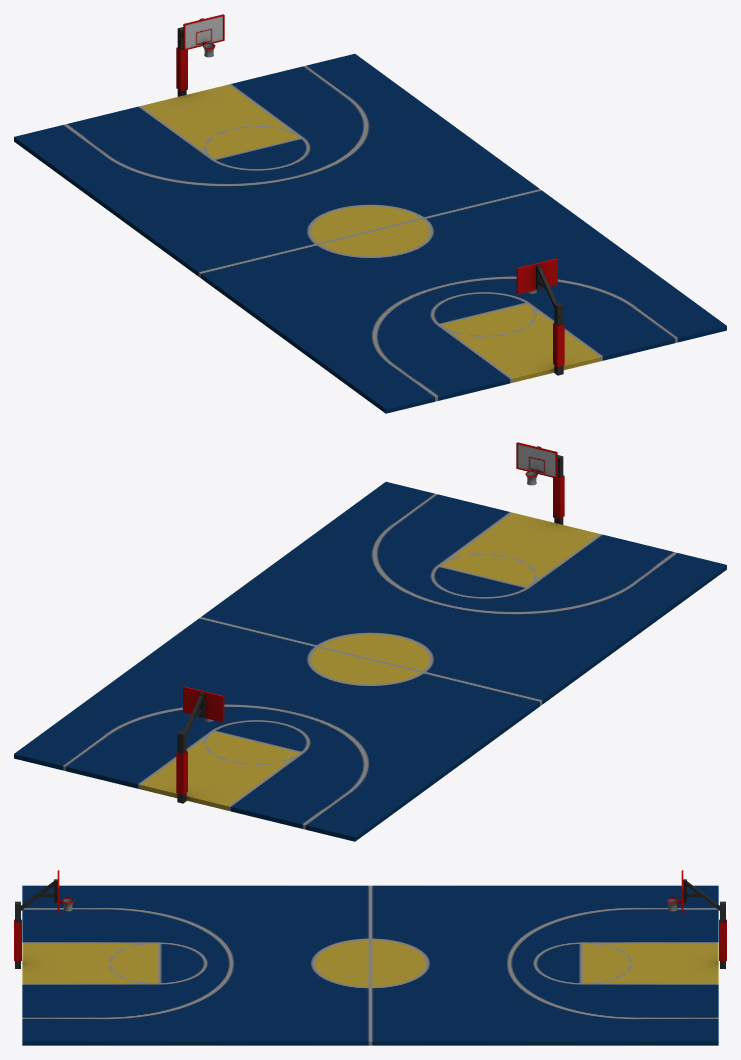
Rendered from BasketBallCourt.obj.
The picture shows the model from 3 angles, top to bottom: view 1: azimuth 30°, elevation 25°; view 2: azimuth 150°, elevation 25°; view 3: azimuth 270°, elevation 25°; orthographic projection. The views are drawn at different scales.
Visible parts, largest first — view 1: BasketBallCourt_Mesh; view 2: BasketBallCourt_Mesh; view 3: BasketBallCourt_Mesh.
Part boxes in pixels (x1,y1,x2,y2): BasketBallCourt_Mesh: [14, 14, 726, 413]; BasketBallCourt_Mesh: [14, 442, 726, 841]; BasketBallCourt_Mesh: [14, 870, 726, 1045].
Bounding box in the file's own units: 15.2 × 4.03 × 29.4.
Materials: 1 (1 with a texture image).
